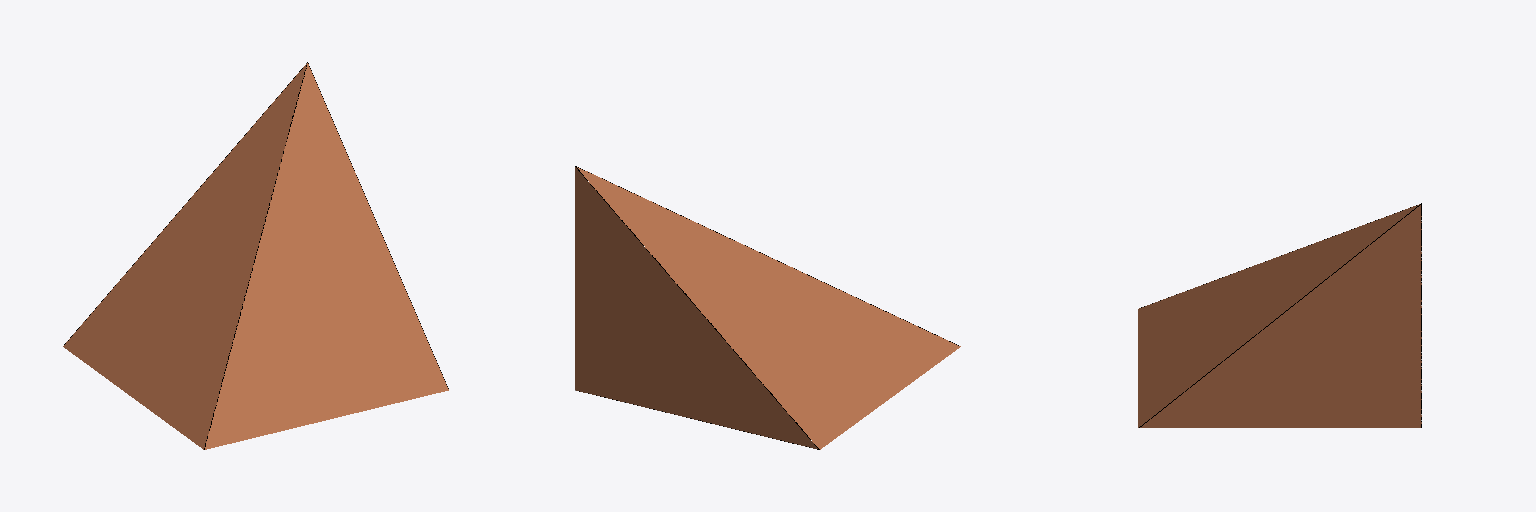
3 views of the same model, side by side, from view 1: azimuth 30°, elevation 25°; view 2: azimuth 150°, elevation 25°; view 3: azimuth 270°, elevation 25° (orthographic).
Visible parts, largest first — view 1: corner_ramp_down_Cube.005; view 2: corner_ramp_down_Cube.005; view 3: corner_ramp_down_Cube.005.
Boxes of the visible parts, x1,y1,x2,y2 form: corner_ramp_down_Cube.005: [63, 62, 448, 449]; corner_ramp_down_Cube.005: [575, 166, 960, 449]; corner_ramp_down_Cube.005: [1138, 203, 1421, 427].
Bounding box in the file's own units: 2 × 1.75 × 2.
Materials: 1 (1 with a texture image).